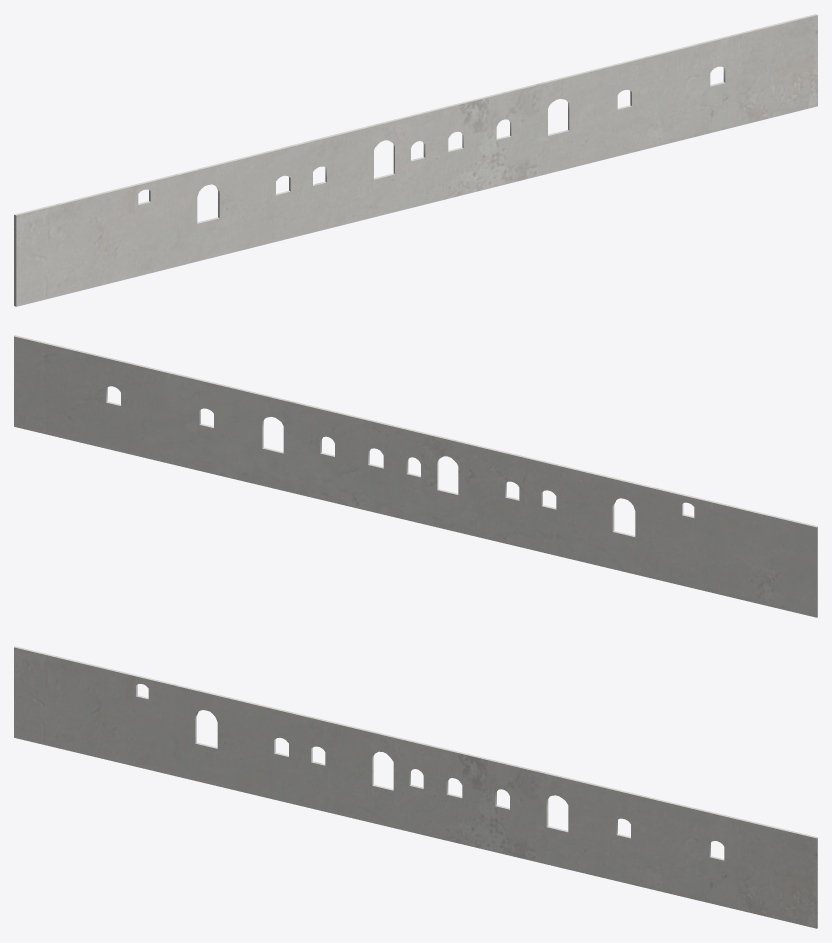
Rendered from asdfs.FBX.
3 renders of one model, top to bottom at view 1: azimuth 30°, elevation 25°; view 2: azimuth 150°, elevation 25°; view 3: azimuth 330°, elevation 25°, orthographic.
Parts seen in each view (by area): view 1: Object120; view 2: Object120; view 3: Object120.
Boxes of the visible parts, left/top/right/bottom form: Object120: left=14, top=14, right=817, bottom=306; Object120: left=14, top=335, right=817, bottom=617; Object120: left=14, top=646, right=817, bottom=928.
Size of the model in its own units: 56.61 by 6.12 by 0.8034.
